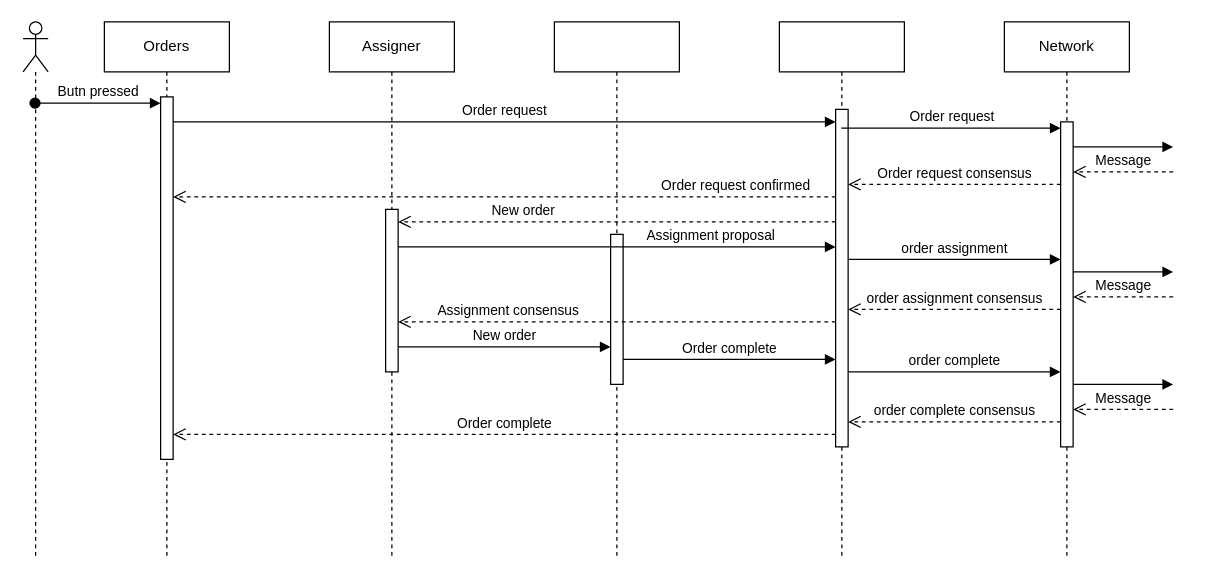
This 1208x581 diagram has some shape labels left out. The shapes that lost their labels are listed below. From the top down, each one's box as (x1, y1, x2, y2) in pixels, then its label:
(553, 21, 679, 559): ElevatorDriver
(778, 21, 904, 559): WorldView
